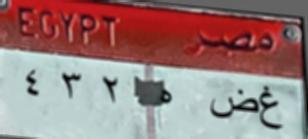2: (97, 71, 123, 105)
3: (59, 66, 84, 103)
4: (23, 64, 43, 96)
daad: (208, 82, 258, 119)
ghayn: (258, 85, 283, 133)
haa: (154, 85, 175, 108)
